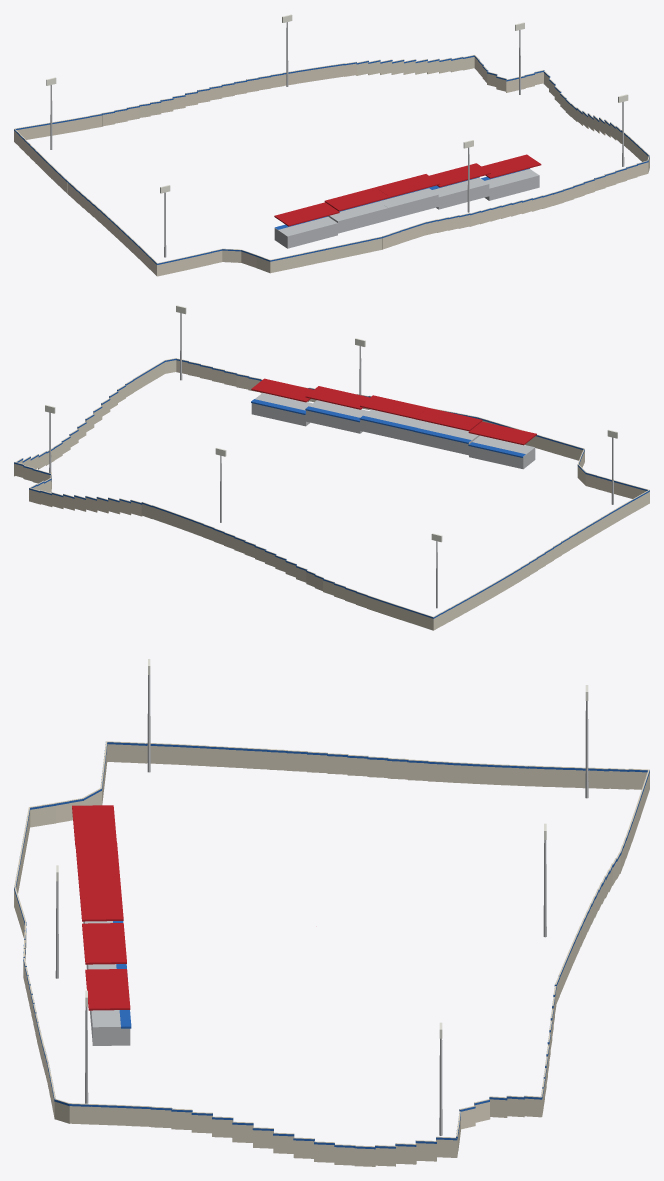
The model's file is joelaveist.glb.
3 renders of one model, top to bottom at view 1: azimuth 30°, elevation 25°; view 2: azimuth 150°, elevation 25°; view 3: azimuth 270°, elevation 25°, orthographic. The views are drawn at different scales.
Visible parts, largest first — view 1: joelaveist_lod0; view 2: joelaveist_lod0; view 3: joelaveist_lod0.
Part boxes in pixels (left/top/right/bottom): joelaveist_lod0: left=14, top=14, right=649, bottom=276; joelaveist_lod0: left=14, top=305, right=649, bottom=630; joelaveist_lod0: left=14, top=659, right=649, bottom=1166.
Size of what is drawn, in the model's own units: 214 by 45.17 by 153.
